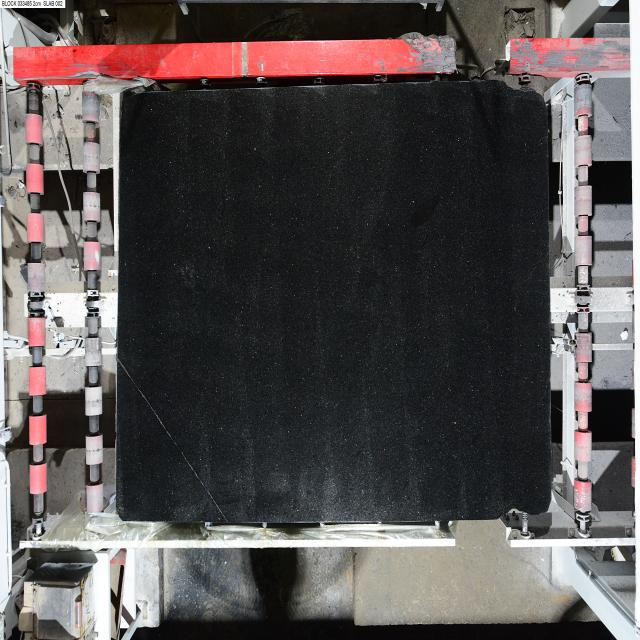chapa: (116, 81, 551, 523)
